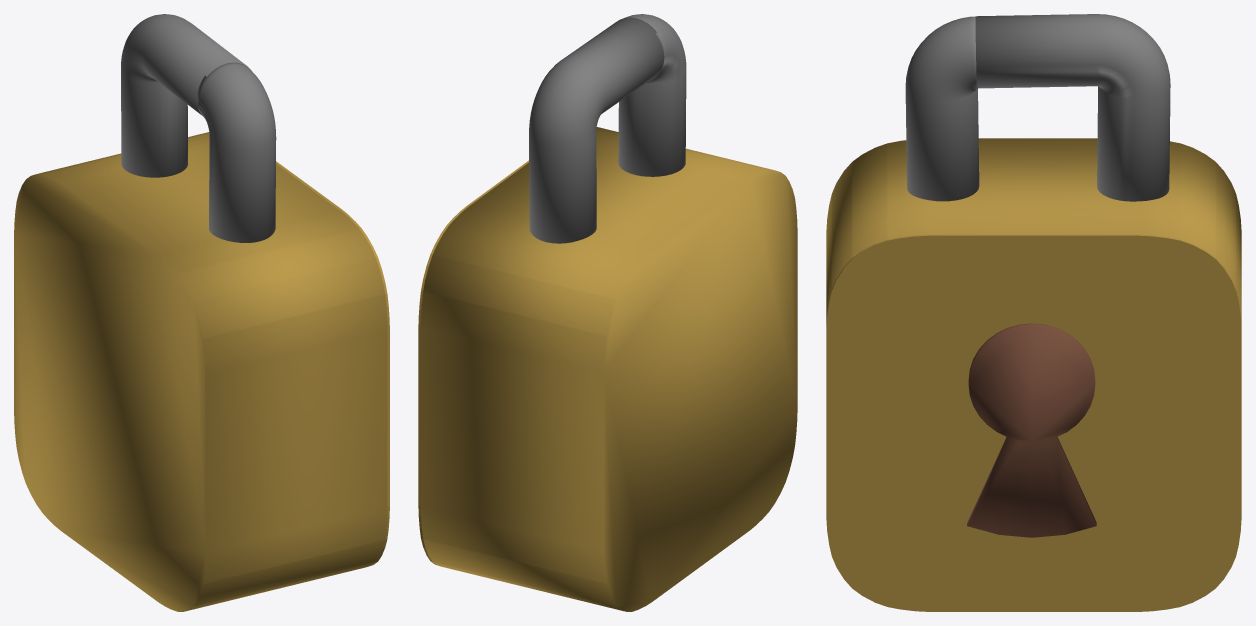
File: cadenas.gltf
3 renders of one model, left to right at view 1: azimuth 30°, elevation 25°; view 2: azimuth 150°, elevation 25°; view 3: azimuth 270°, elevation 25°, orthographic. The views are drawn at different scales.
Parts seen in each view (by area): view 1: Cube, Circle.001, Cube.001; view 2: Cube, Circle.001, Cube.001; view 3: Cube.001, Circle.001, Cube, Circle.
Boxes of the visible parts, x1,y1,x2,y2 form: Cube: (14,132,387,611); Circle.001: (121,14,276,242); Cube.001: (276,161,389,565); Cube: (420,127,797,611); Circle.001: (529,14,686,243); Cube.001: (418,160,529,565); Cube.001: (826,234,1241,611); Circle.001: (905,14,1170,201); Cube: (826,138,1241,325); Circle: (967,323,1096,537).
Bounding box in the file's own units: 1.15 × 2.9 × 2.
